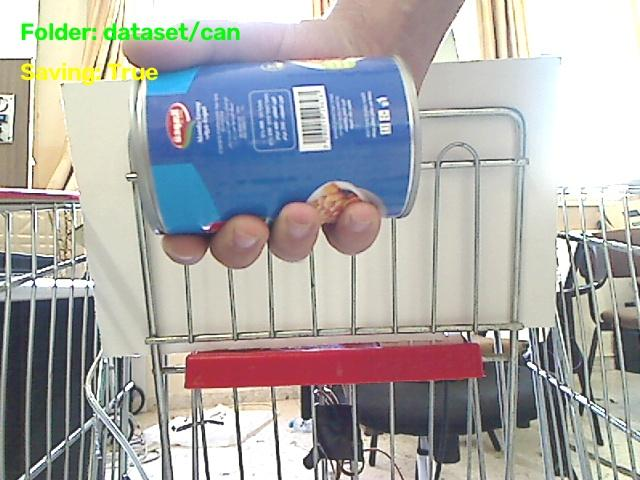can: (130, 57, 419, 233)
